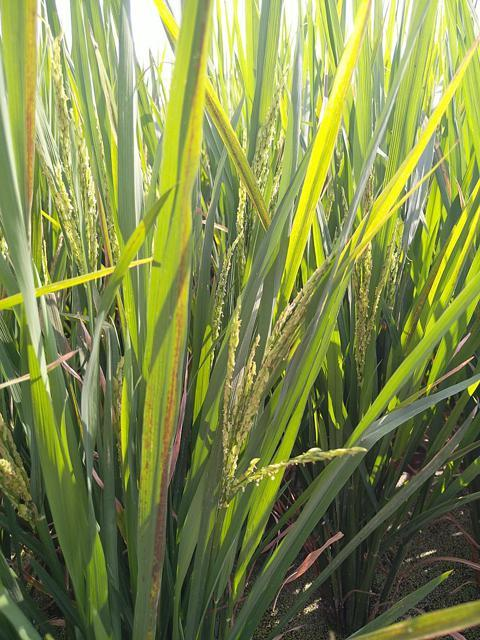Leaf Streak: (139, 0, 209, 639), (22, 0, 36, 204)
